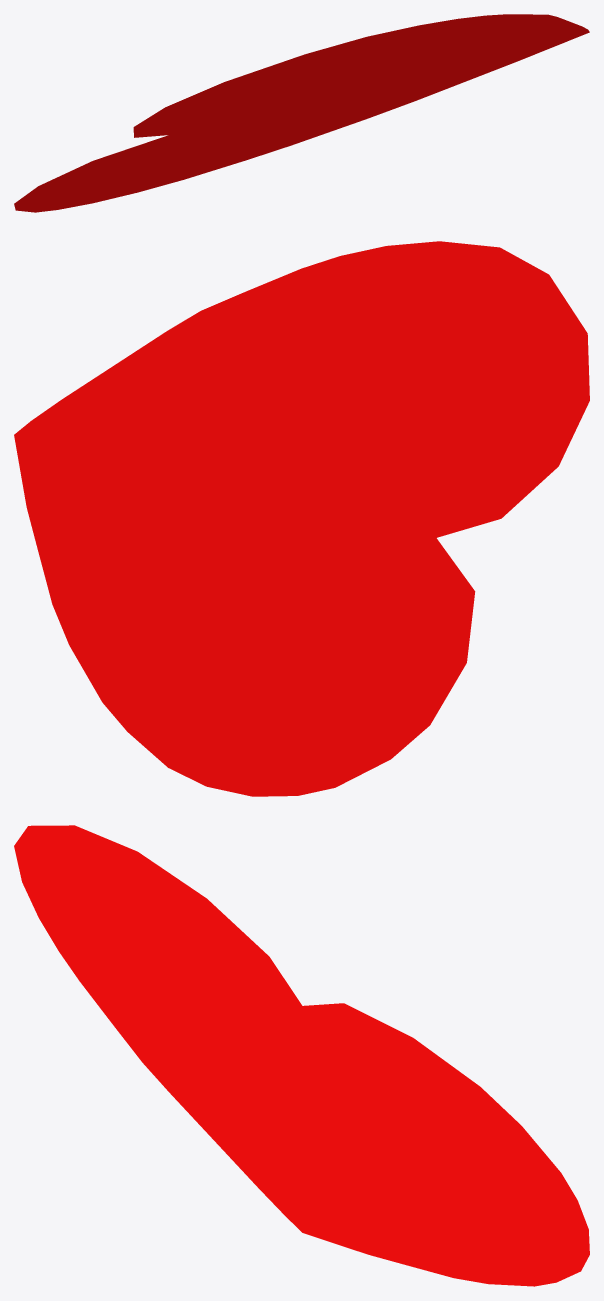
File: cuore.fbx
3 renders of one model, top to bottom at view 1: azimuth 30°, elevation 25°; view 2: azimuth 150°, elevation 25°; view 3: azimuth 270°, elevation 25°, orthographic. The views are drawn at different scales.
Visible parts, largest first — view 1: Sphere.001; view 2: Sphere.001; view 3: Sphere.001.
Boxes of the visible parts, left/top/right/bottom form: Sphere.001: left=14, top=14, right=589, bottom=212; Sphere.001: left=14, top=241, right=589, bottom=796; Sphere.001: left=14, top=825, right=589, bottom=1286.
Bounding box in the file's own units: 291 × 196 × 262.
